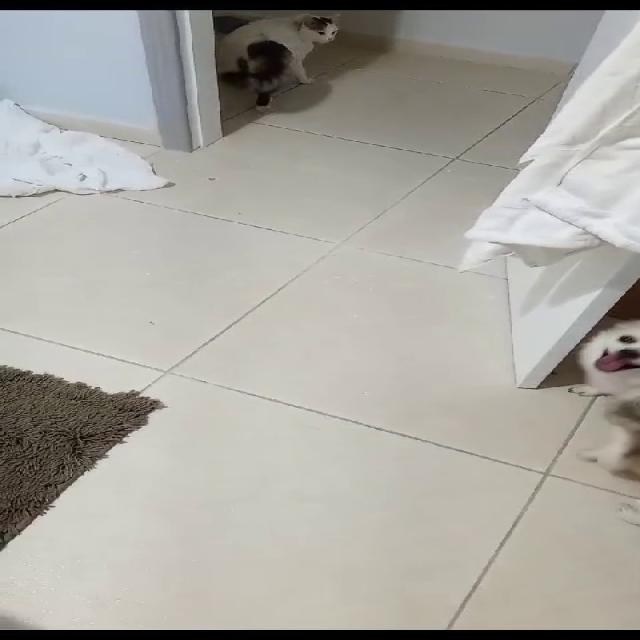Simba: (212, 12, 353, 114)
